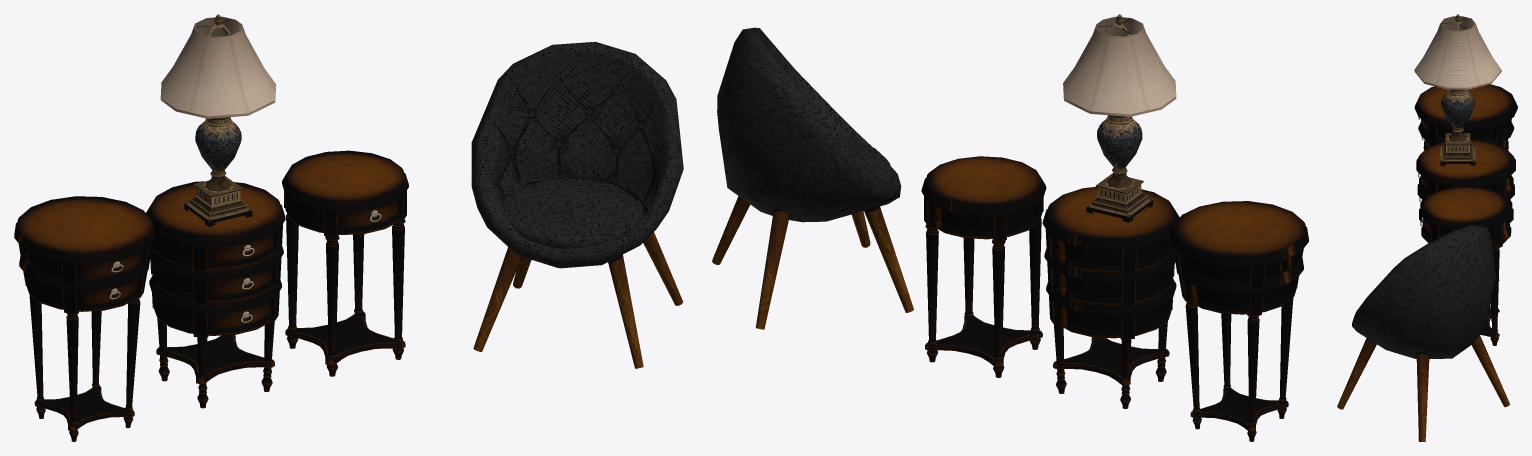
The model's file is chairscene.fbx.
3 views of the same model, side by side, from view 1: azimuth 30°, elevation 25°; view 2: azimuth 150°, elevation 25°; view 3: azimuth 270°, elevation 25° (orthographic). The views are drawn at different scales.
Parts seen in each view (by area): view 1: chairlegs_low.001, endtable1 top _low.006, endtable1 top _low.003, endtable1 top _low, lampscrew_low.001; view 2: chairlegs_low.001, endtable1 top _low.006, endtable1 top _low.003, endtable1 top _low, lampscrew_low.001; view 3: chairlegs_low.001, lampscrew_low.001, endtable1 top _low, endtable1 top _low.006, endtable1 top _low.003.
Part boxes in pixels (box(x1,y1,x2,y2)): chairlegs_low.001: box(471, 41, 683, 368); endtable1 top _low.006: box(146, 181, 285, 408); endtable1 top _low.003: box(14, 196, 155, 441); endtable1 top _low: box(282, 150, 408, 376); lampscrew_low.001: box(160, 14, 276, 226); chairlegs_low.001: box(712, 27, 913, 329); endtable1 top _low.006: box(1042, 187, 1179, 408); endtable1 top _low.003: box(1170, 201, 1308, 441); endtable1 top _low: box(921, 156, 1046, 377); lampscrew_low.001: box(1063, 14, 1176, 222); chairlegs_low.001: box(1337, 225, 1509, 441); lampscrew_low.001: box(1414, 14, 1501, 165); endtable1 top _low: box(1421, 187, 1511, 345); endtable1 top _low.006: box(1416, 139, 1515, 280); endtable1 top _low.003: box(1414, 84, 1517, 149).
Size of the model in its own units: 2.87 by 0.9844 by 1.66.
